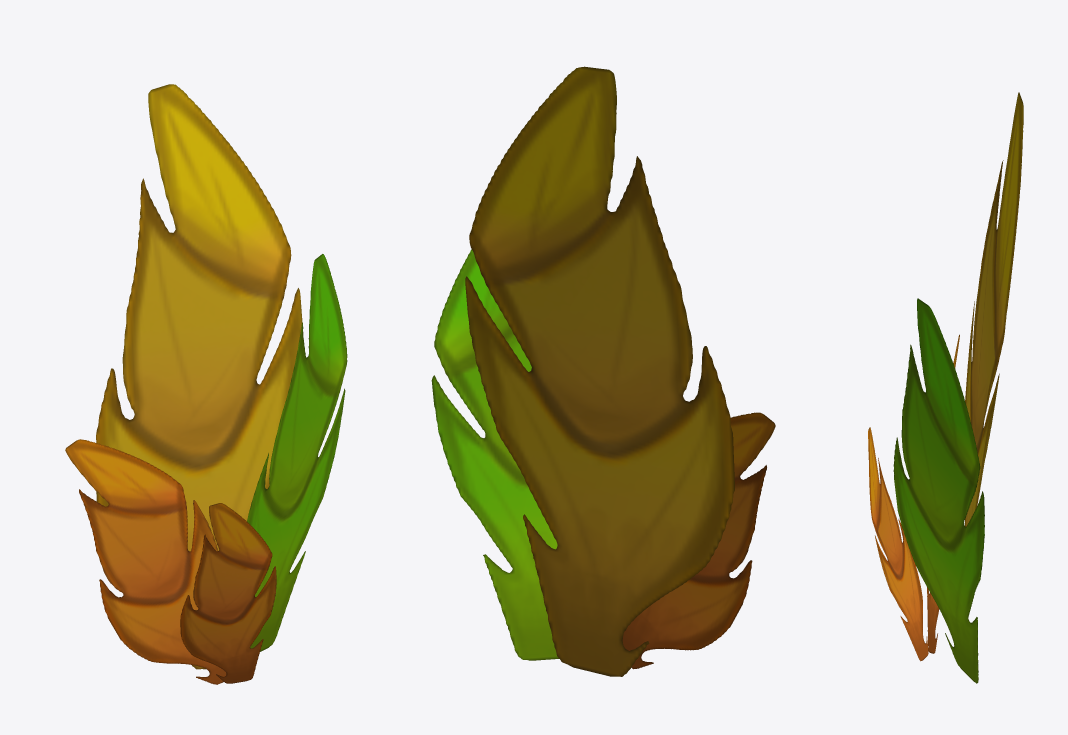
Rendered from 15_Hojitas.fbx.
The picture shows the model from 3 angles, left to right: view 1: azimuth 30°, elevation 25°; view 2: azimuth 150°, elevation 25°; view 3: azimuth 270°, elevation 25°; orthographic projection. The views are drawn at different scales.
Visible parts, largest first — view 1: Follage.077; view 2: Follage.077; view 3: Follage.077.
Boxes of the visible parts, x1=… form: Follage.077: x1=65, y1=84, x2=347, y2=684; Follage.077: x1=431, y1=66, x2=775, y2=676; Follage.077: x1=868, y1=92, x2=1023, y2=683.
Bounding box in the file's own units: 22.52 × 37.01 × 10.83.
